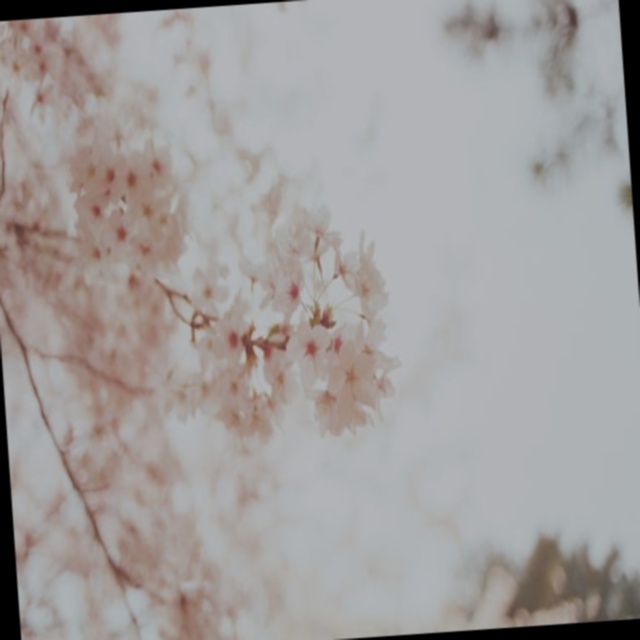clean_water: (13, 13, 627, 627)
foam_scum: (238, 0, 598, 539), (289, 440, 408, 541)
turbid_water: (0, 13, 390, 640)
